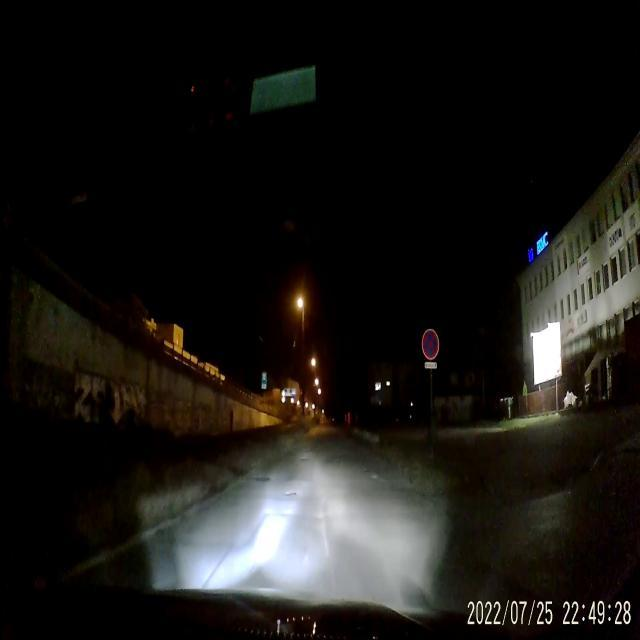Pothole: (298, 449, 316, 467), (252, 473, 272, 485), (282, 488, 300, 500), (368, 464, 380, 482)
